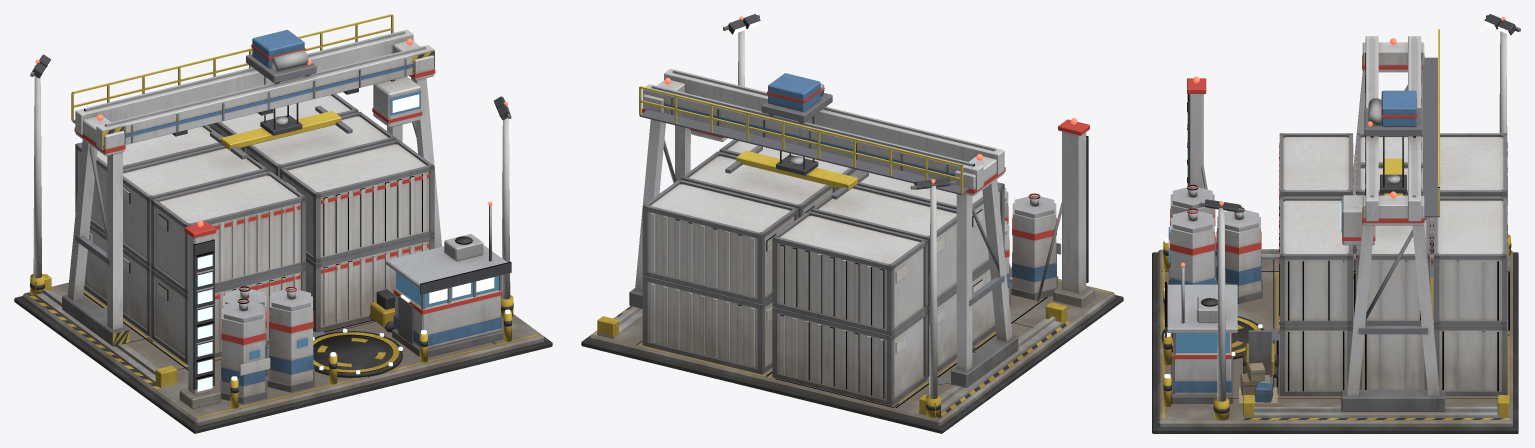
The model's file is storage_container.glb.
The picture shows the model from 3 angles, left to right: view 1: azimuth 30°, elevation 25°; view 2: azimuth 150°, elevation 25°; view 3: azimuth 270°, elevation 25°; orthographic projection.
Visible parts, largest first — view 1: GantryBody, Build0Body, Slot9Body, Slot6Body, Build7Body, Build5Body, Slot7Body, Slot3Body, Slot0Body, Slot10Body, MastsBody, Build8Body (+8 smaller); view 2: GantryBody, Build0Body, Slot8Body, Slot11Body, Slot2Body, Slot5Body, Slot7Body, Build8Body, Build5Body, Slot10Body, MastsBody, Slot6Body (+5 smaller); view 3: Build0Body, GantryBody, Slot11Body, Slot9Body, Build5Body, Build7Body, Slot3Body, Slot5Body, Slot10Body, Slot6Body, Slot8Body, Slot4Body (+7 smaller).
Part boxes in pixels (<box>): GantryBody: <box>62,14,441,346</box>; Build0Body: <box>14,274,552,433</box>; Slot9Body: <box>280,139,434,263</box>; Slot6Body: <box>151,171,305,294</box>; Build7Body: <box>386,201,511,357</box>; Build5Body: <box>219,286,314,404</box>; Slot7Body: <box>123,145,267,267</box>; Slot3Body: <box>306,235,434,332</box>; Slot0Body: <box>151,266,305,364</box>; Slot10Body: <box>242,111,396,177</box>; MastsBody: <box>30,54,513,317</box>; Build8Body: <box>179,220,221,408</box>; GantryBody: <box>629,68,1018,387</box>; Build0Body: <box>581,267,1123,433</box>; Slot8Body: <box>772,211,927,335</box>; Slot11Body: <box>642,179,798,304</box>; Slot2Body: <box>772,307,927,405</box>; Slot5Body: <box>642,275,772,374</box>; Slot7Body: <box>810,185,956,307</box>; Build8Body: <box>1036,118,1094,307</box>; Build5Body: <box>1004,188,1061,305</box>; Slot10Body: <box>681,151,836,217</box>; MastsBody: <box>723,14,955,417</box>; Slot6Body: <box>855,171,1004,276</box>; Build0Body: <box>1152,238,1518,433</box>; GantryBody: <box>1340,29,1445,411</box>; Slot11Body: <box>1433,197,1507,325</box>; Slot9Body: <box>1279,197,1353,325</box>; Build5Body: <box>1168,184,1262,303</box>; Build7Body: <box>1165,262,1237,403</box>; Slot3Body: <box>1279,316,1353,396</box>; Slot5Body: <box>1433,316,1507,396</box>; Slot10Body: <box>1356,217,1430,325</box>; Slot6Body: <box>1279,133,1353,206</box>; Slot8Body: <box>1440,133,1507,205</box>; Slot4Body: <box>1359,325,1427,389</box>.
Size of the model in its own units: 10.9 by 7.41 by 9.55.
Materials: 24 (13 with a texture image).
